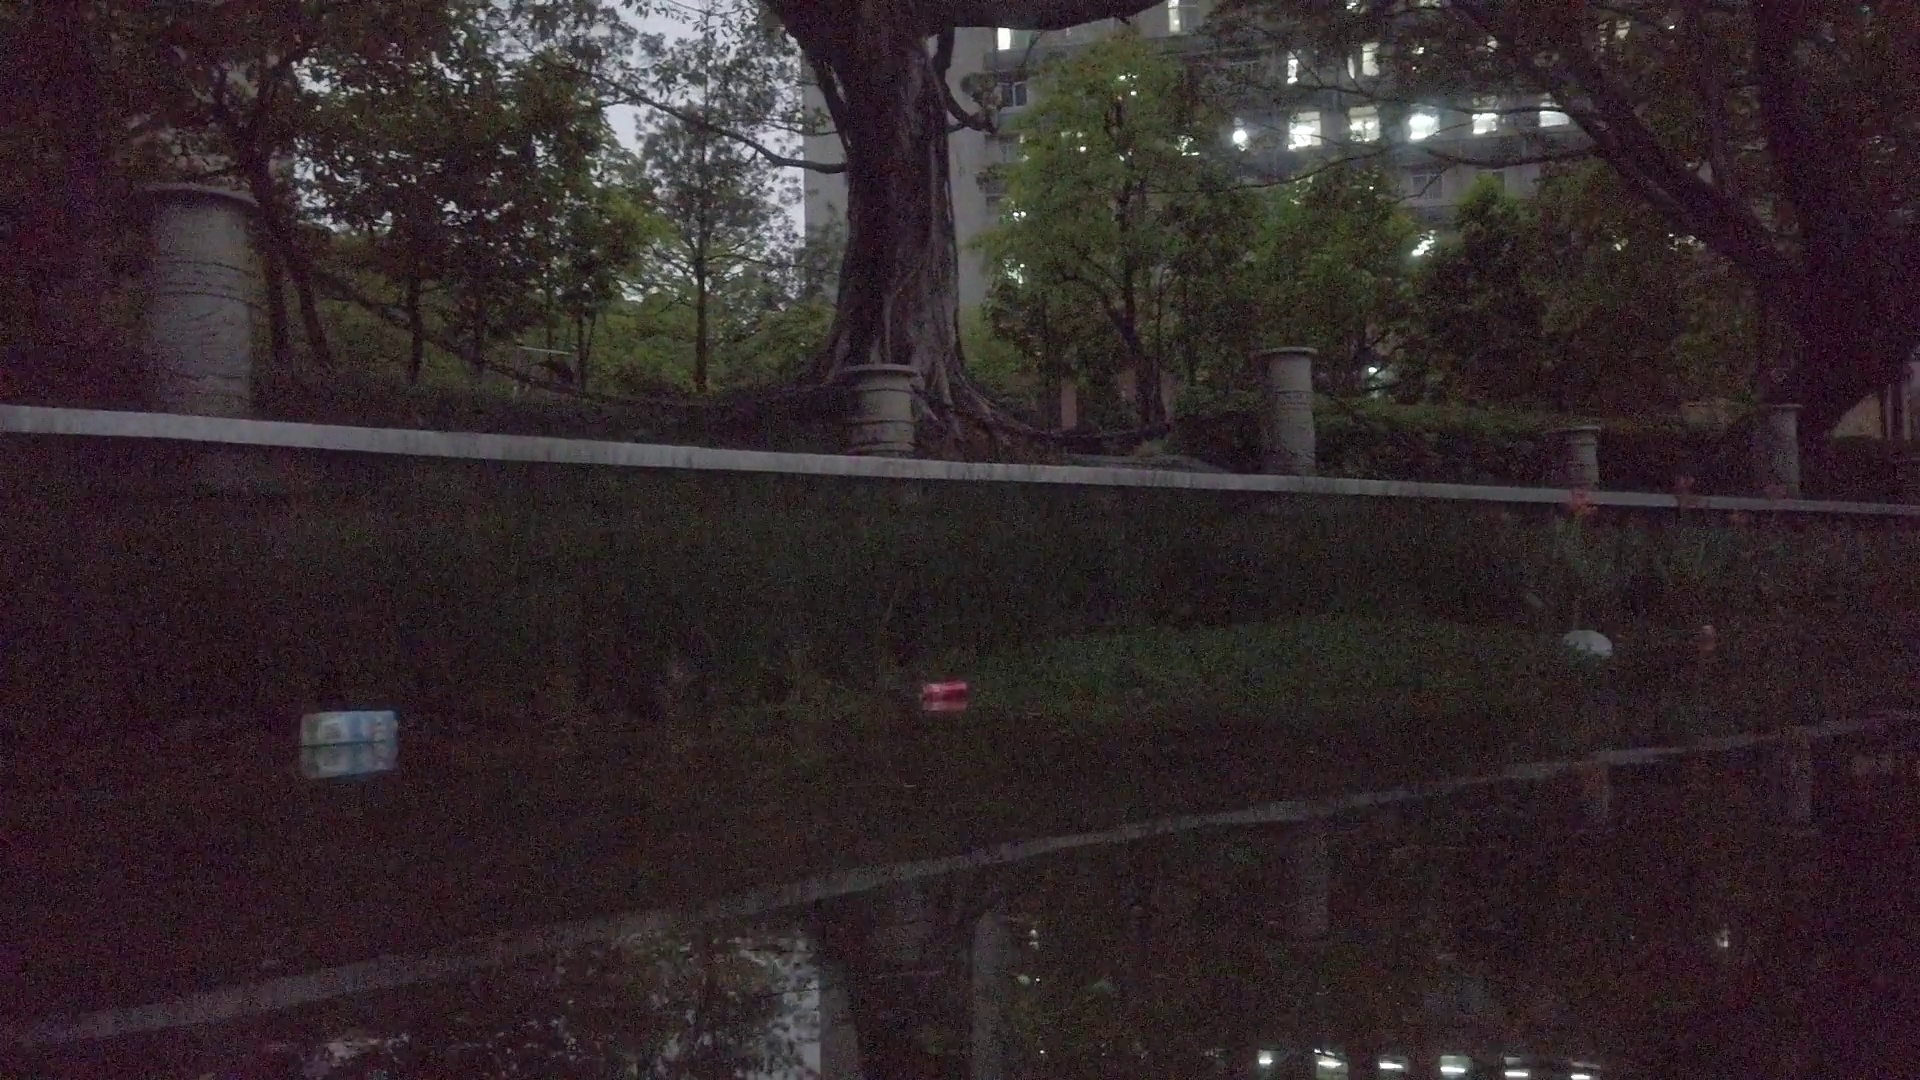bottle: (919, 679, 972, 702), (1695, 622, 1722, 644)
carton: (301, 709, 398, 746)
plastic: (1567, 626, 1611, 653)
